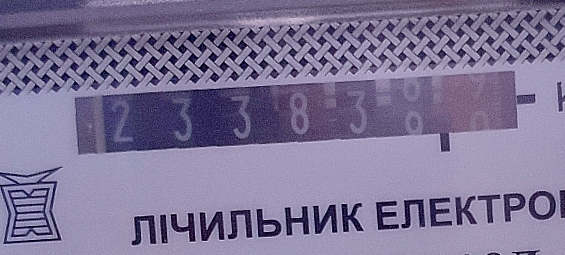0: (466, 105, 493, 131)
2: (106, 94, 136, 144)
3: (167, 92, 197, 143), (228, 90, 255, 142), (343, 84, 371, 134)
8: (285, 88, 312, 135), (397, 74, 426, 103)
9: (399, 105, 427, 136), (464, 70, 490, 99)
screen: (61, 55, 537, 177)
